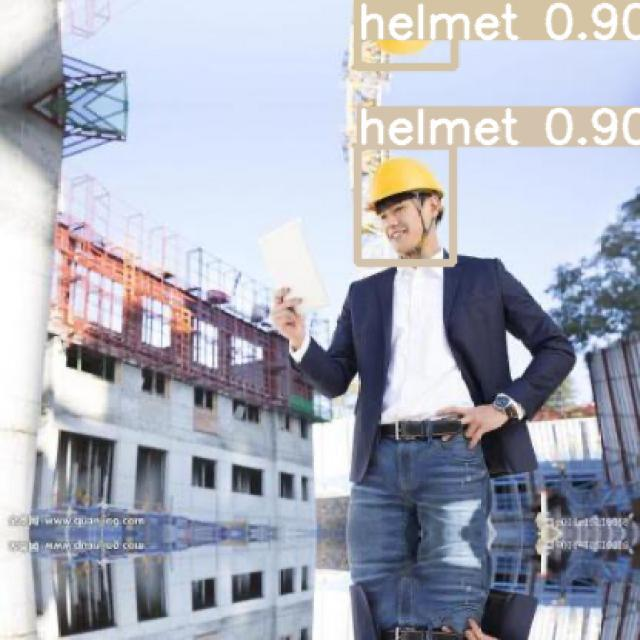Helmet: (365, 156, 443, 209)
